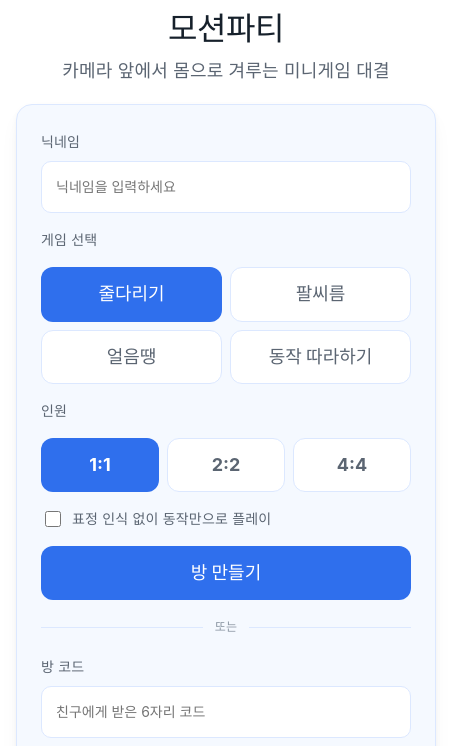
Scenario: Lobby: joining a room › keeps join disabled until 6 characters are entered
Type "abc23" into the field with placeholder "친구에게 받은 6자리 코드" at [226, 712], box top-left (41, 686), bottom-right (411, 738)
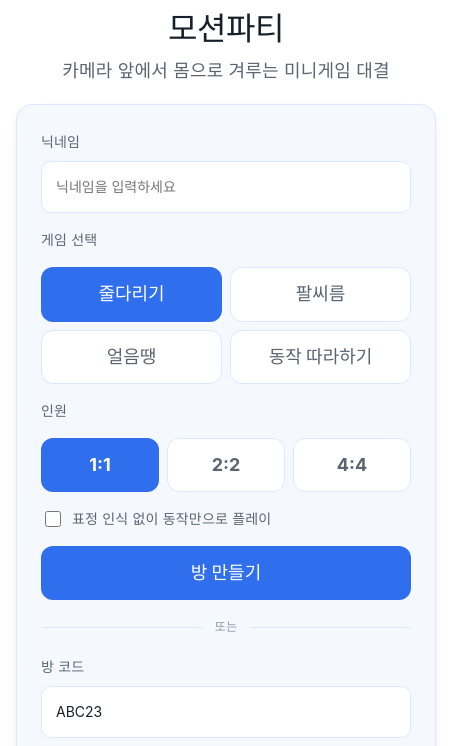
Replace the text in the field with placeholder "친구에게 받은 6자리 코드" with "abc234" at [226, 712], box top-left (41, 686), bottom-right (411, 738)
(page scrolled)
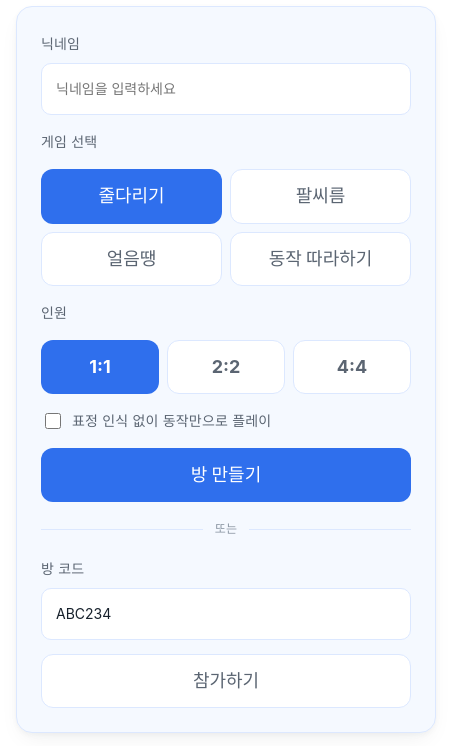
Now the button "참가하기" is enabled, box top-left (41, 654), bottom-right (411, 708)
